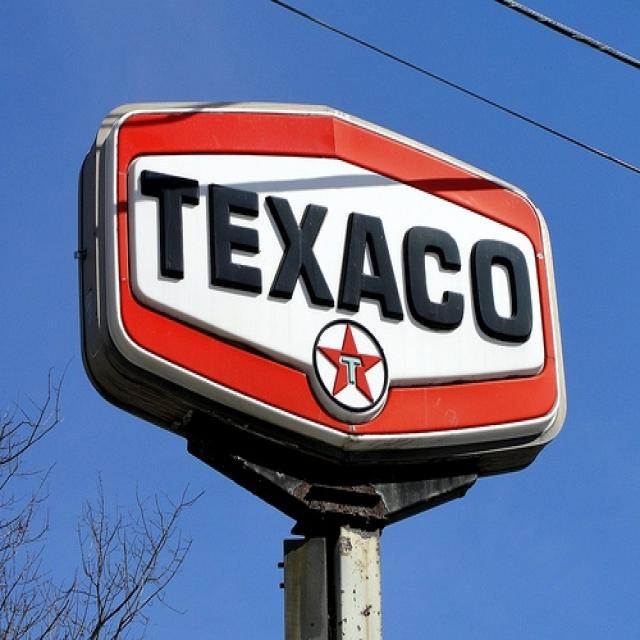texaco: (316, 318, 387, 415)
